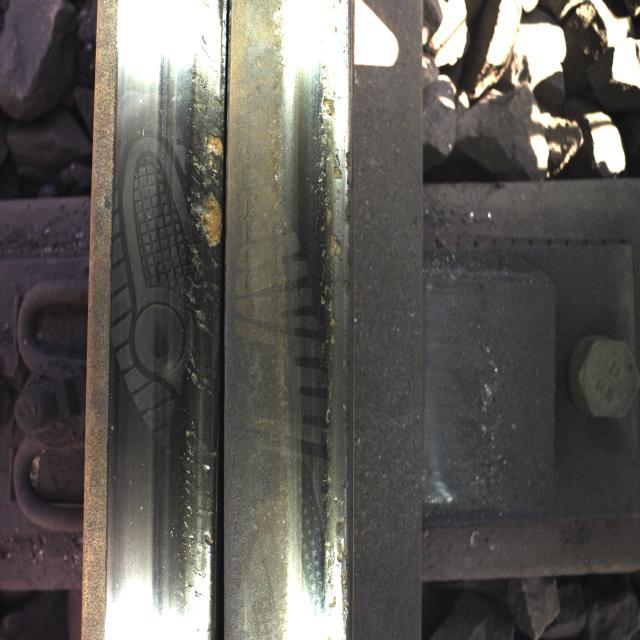scar: (170, 55, 226, 605), (292, 58, 348, 582)
